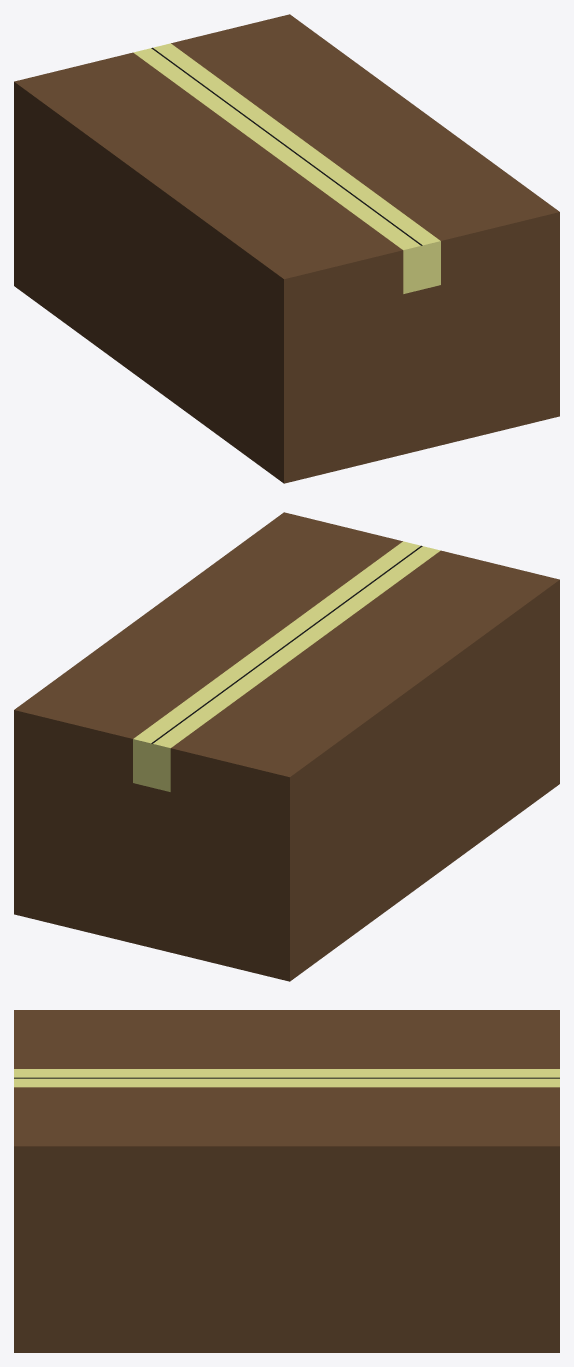
The model's file is Package.fbx.
3 renders of one model, top to bottom at view 1: azimuth 30°, elevation 25°; view 2: azimuth 150°, elevation 25°; view 3: azimuth 270°, elevation 25°, orthographic.
Parts seen in each view (by area): view 1: Package; view 2: Package; view 3: Package.
Boxes of the visible parts, bbox=[...] form: Package: bbox=[14, 14, 559, 483]; Package: bbox=[14, 512, 559, 981]; Package: bbox=[14, 1010, 559, 1352].
Bounding box in the file's own units: 116 × 81.9 × 196.
